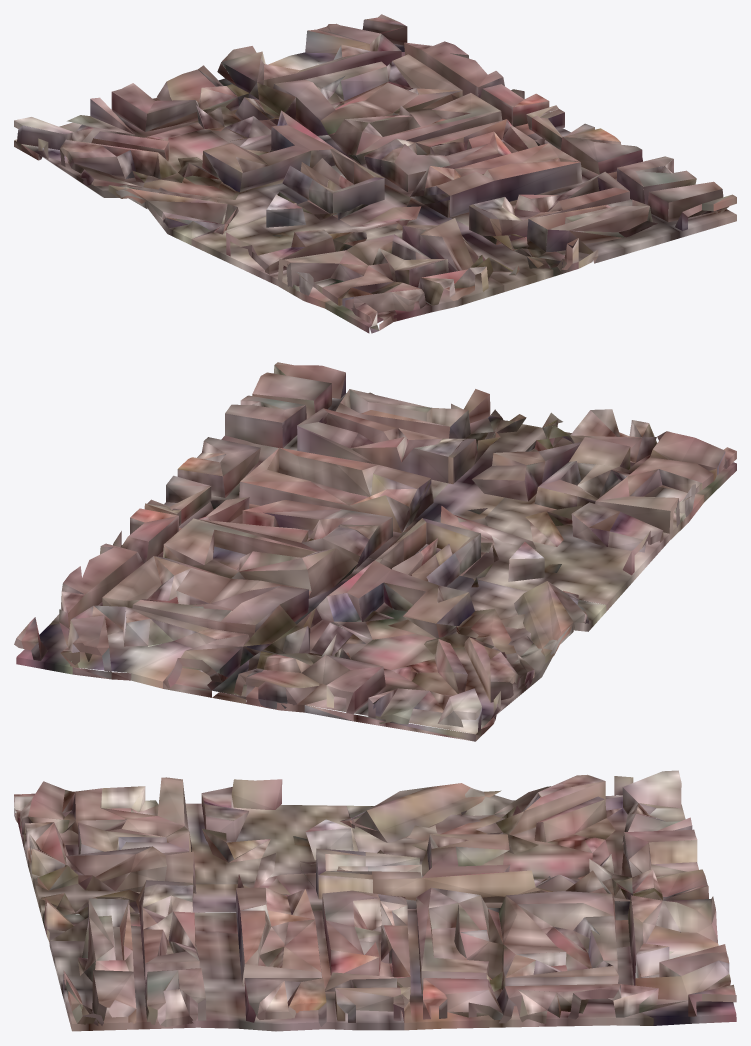
The picture shows the model from 3 angles, top to bottom: view 1: azimuth 30°, elevation 25°; view 2: azimuth 150°, elevation 25°; view 3: azimuth 270°, elevation 25°; orthographic projection. The views are drawn at different scales.
Visible parts, largest first — view 1: Mesh_0; view 2: Mesh_0; view 3: Mesh_0.
Part boxes in pixels (box(x1,y1,x2,y2)): Mesh_0: box(14, 14, 736, 333); Mesh_0: box(14, 362, 736, 741); Mesh_0: box(14, 770, 736, 1031).
Bounding box in the file's own units: 533 × 64.48 × 659.
2 materials, 2 textured.
